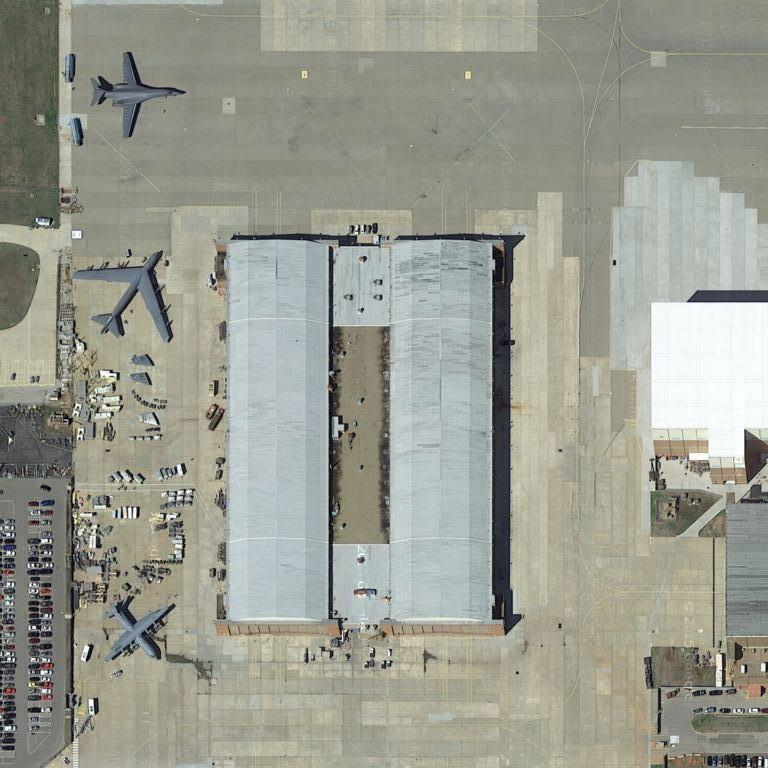B-1B: (86, 45, 184, 141)
B-52: (75, 245, 172, 346)
C-130: (100, 595, 178, 666)
